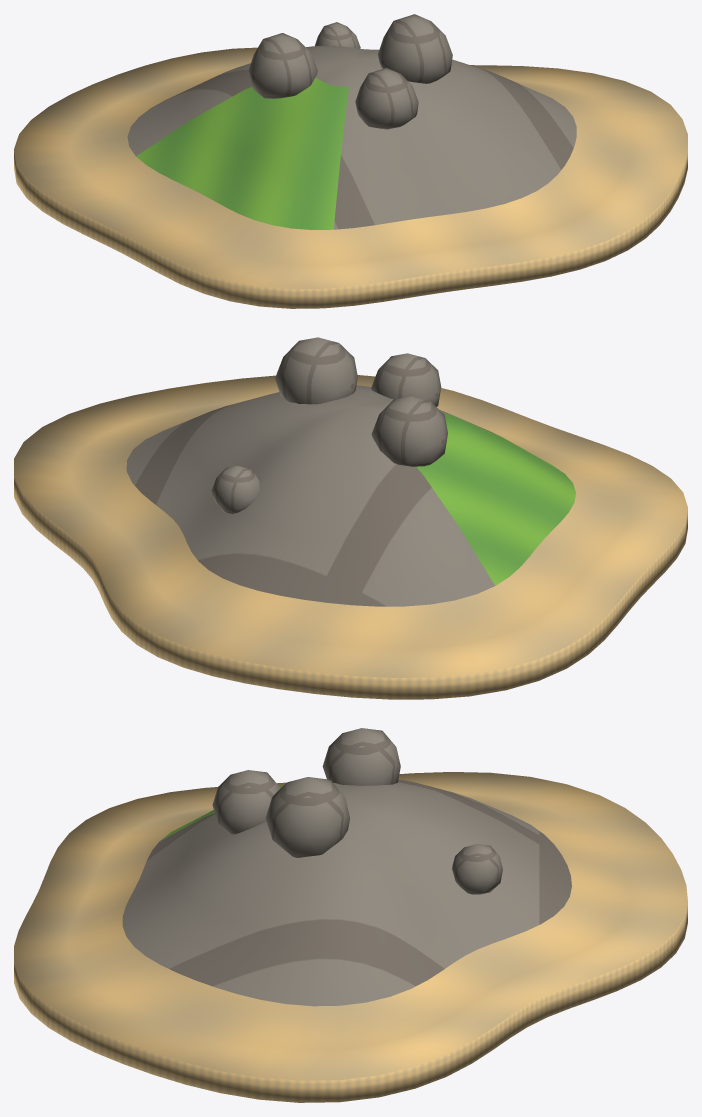
The model's file is ISL-S_LOD0.fbx.
The picture shows the model from 3 angles, top to bottom: view 1: azimuth 30°, elevation 25°; view 2: azimuth 150°, elevation 25°; view 3: azimuth 270°, elevation 25°; orthographic projection. The views are drawn at different scales.
Visible parts, largest first — view 1: ISL-S_LOD0; view 2: ISL-S_LOD0; view 3: ISL-S_LOD0.
Boxes of the visible parts, x1=… form: ISL-S_LOD0: x1=14, y1=14, x2=687, y2=308; ISL-S_LOD0: x1=14, y1=337, x2=687, y2=699; ISL-S_LOD0: x1=14, y1=728, x2=687, y2=1102.
Size of the model in its own units: 44.87 by 41.38 by 12.63.
